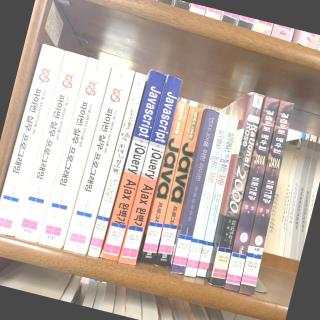book-spine: (15, 51, 88, 243), (63, 64, 135, 255), (39, 57, 110, 248), (100, 69, 167, 262), (0, 43, 65, 237), (118, 74, 183, 266), (87, 72, 147, 258), (239, 99, 295, 295), (210, 92, 265, 287), (224, 97, 279, 292), (138, 101, 191, 266), (155, 105, 204, 269), (171, 108, 219, 275), (185, 113, 229, 278), (196, 117, 239, 277)
